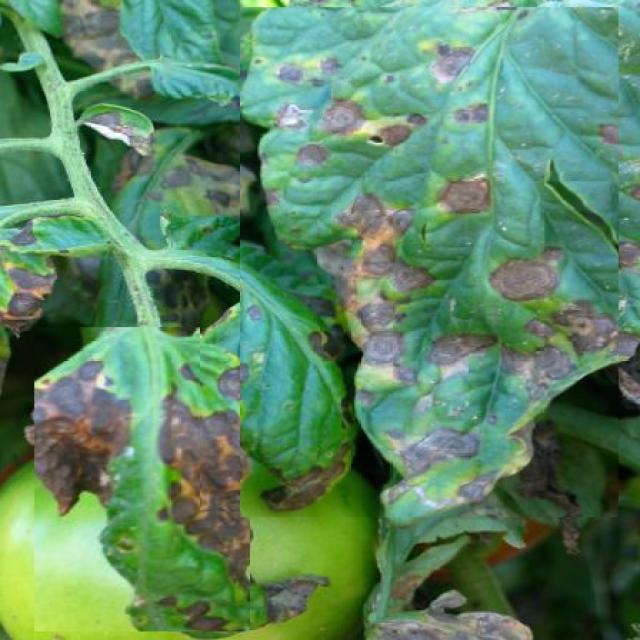Early Blight: (240, 7, 619, 517), (34, 327, 250, 632), (200, 296, 352, 511)
